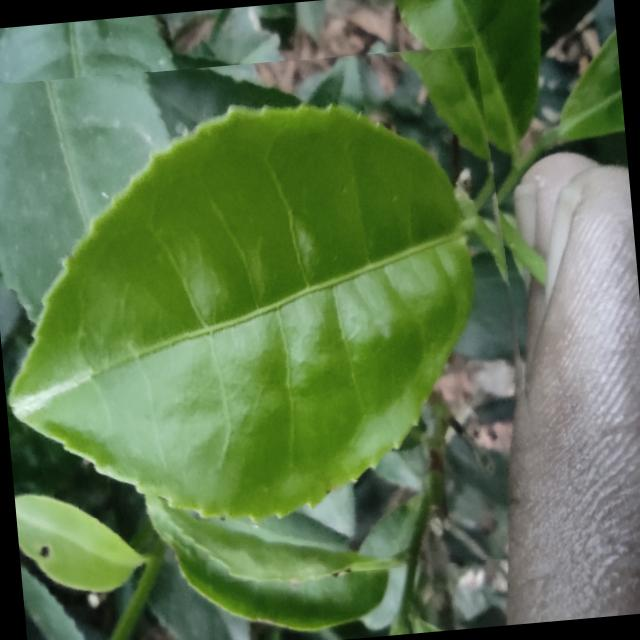Category C(4-7 days): (0, 38, 549, 599)
